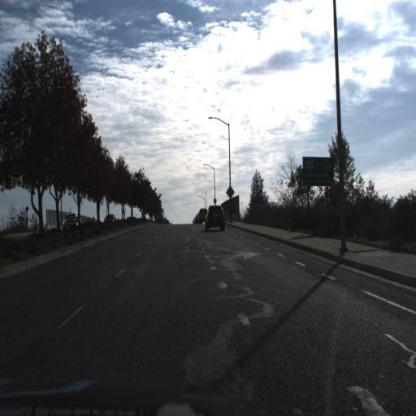car: (206, 206, 228, 232), (65, 215, 85, 231), (63, 212, 77, 228), (198, 210, 209, 224), (105, 214, 117, 226), (105, 215, 116, 223), (67, 214, 77, 221)
